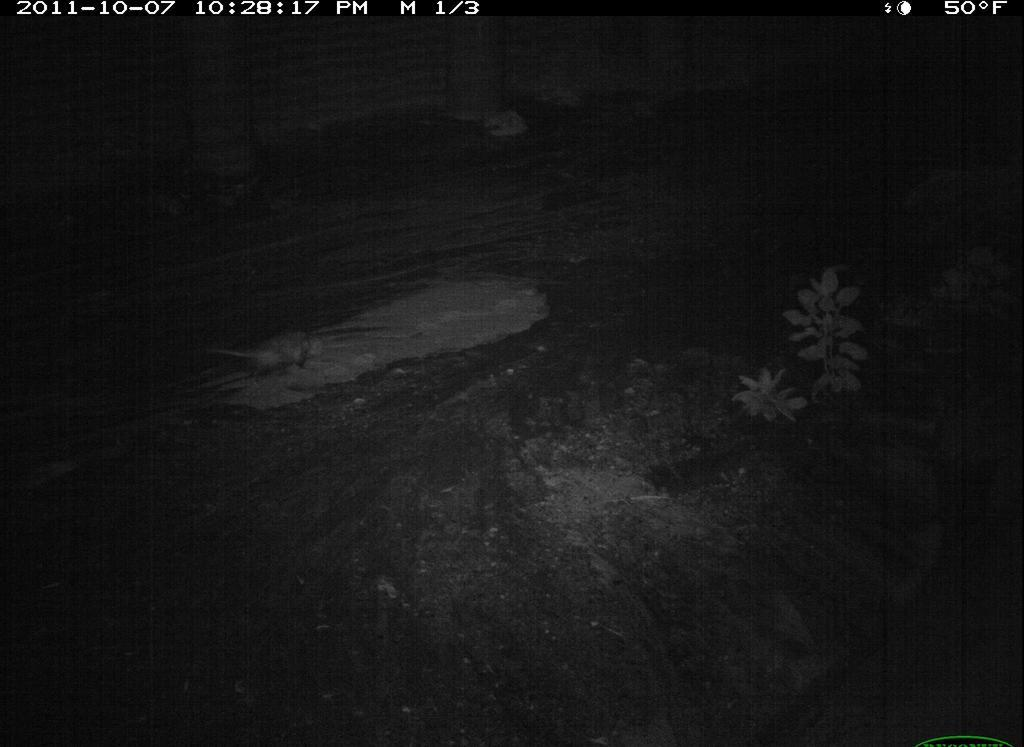opossum: (191, 318, 335, 386)
